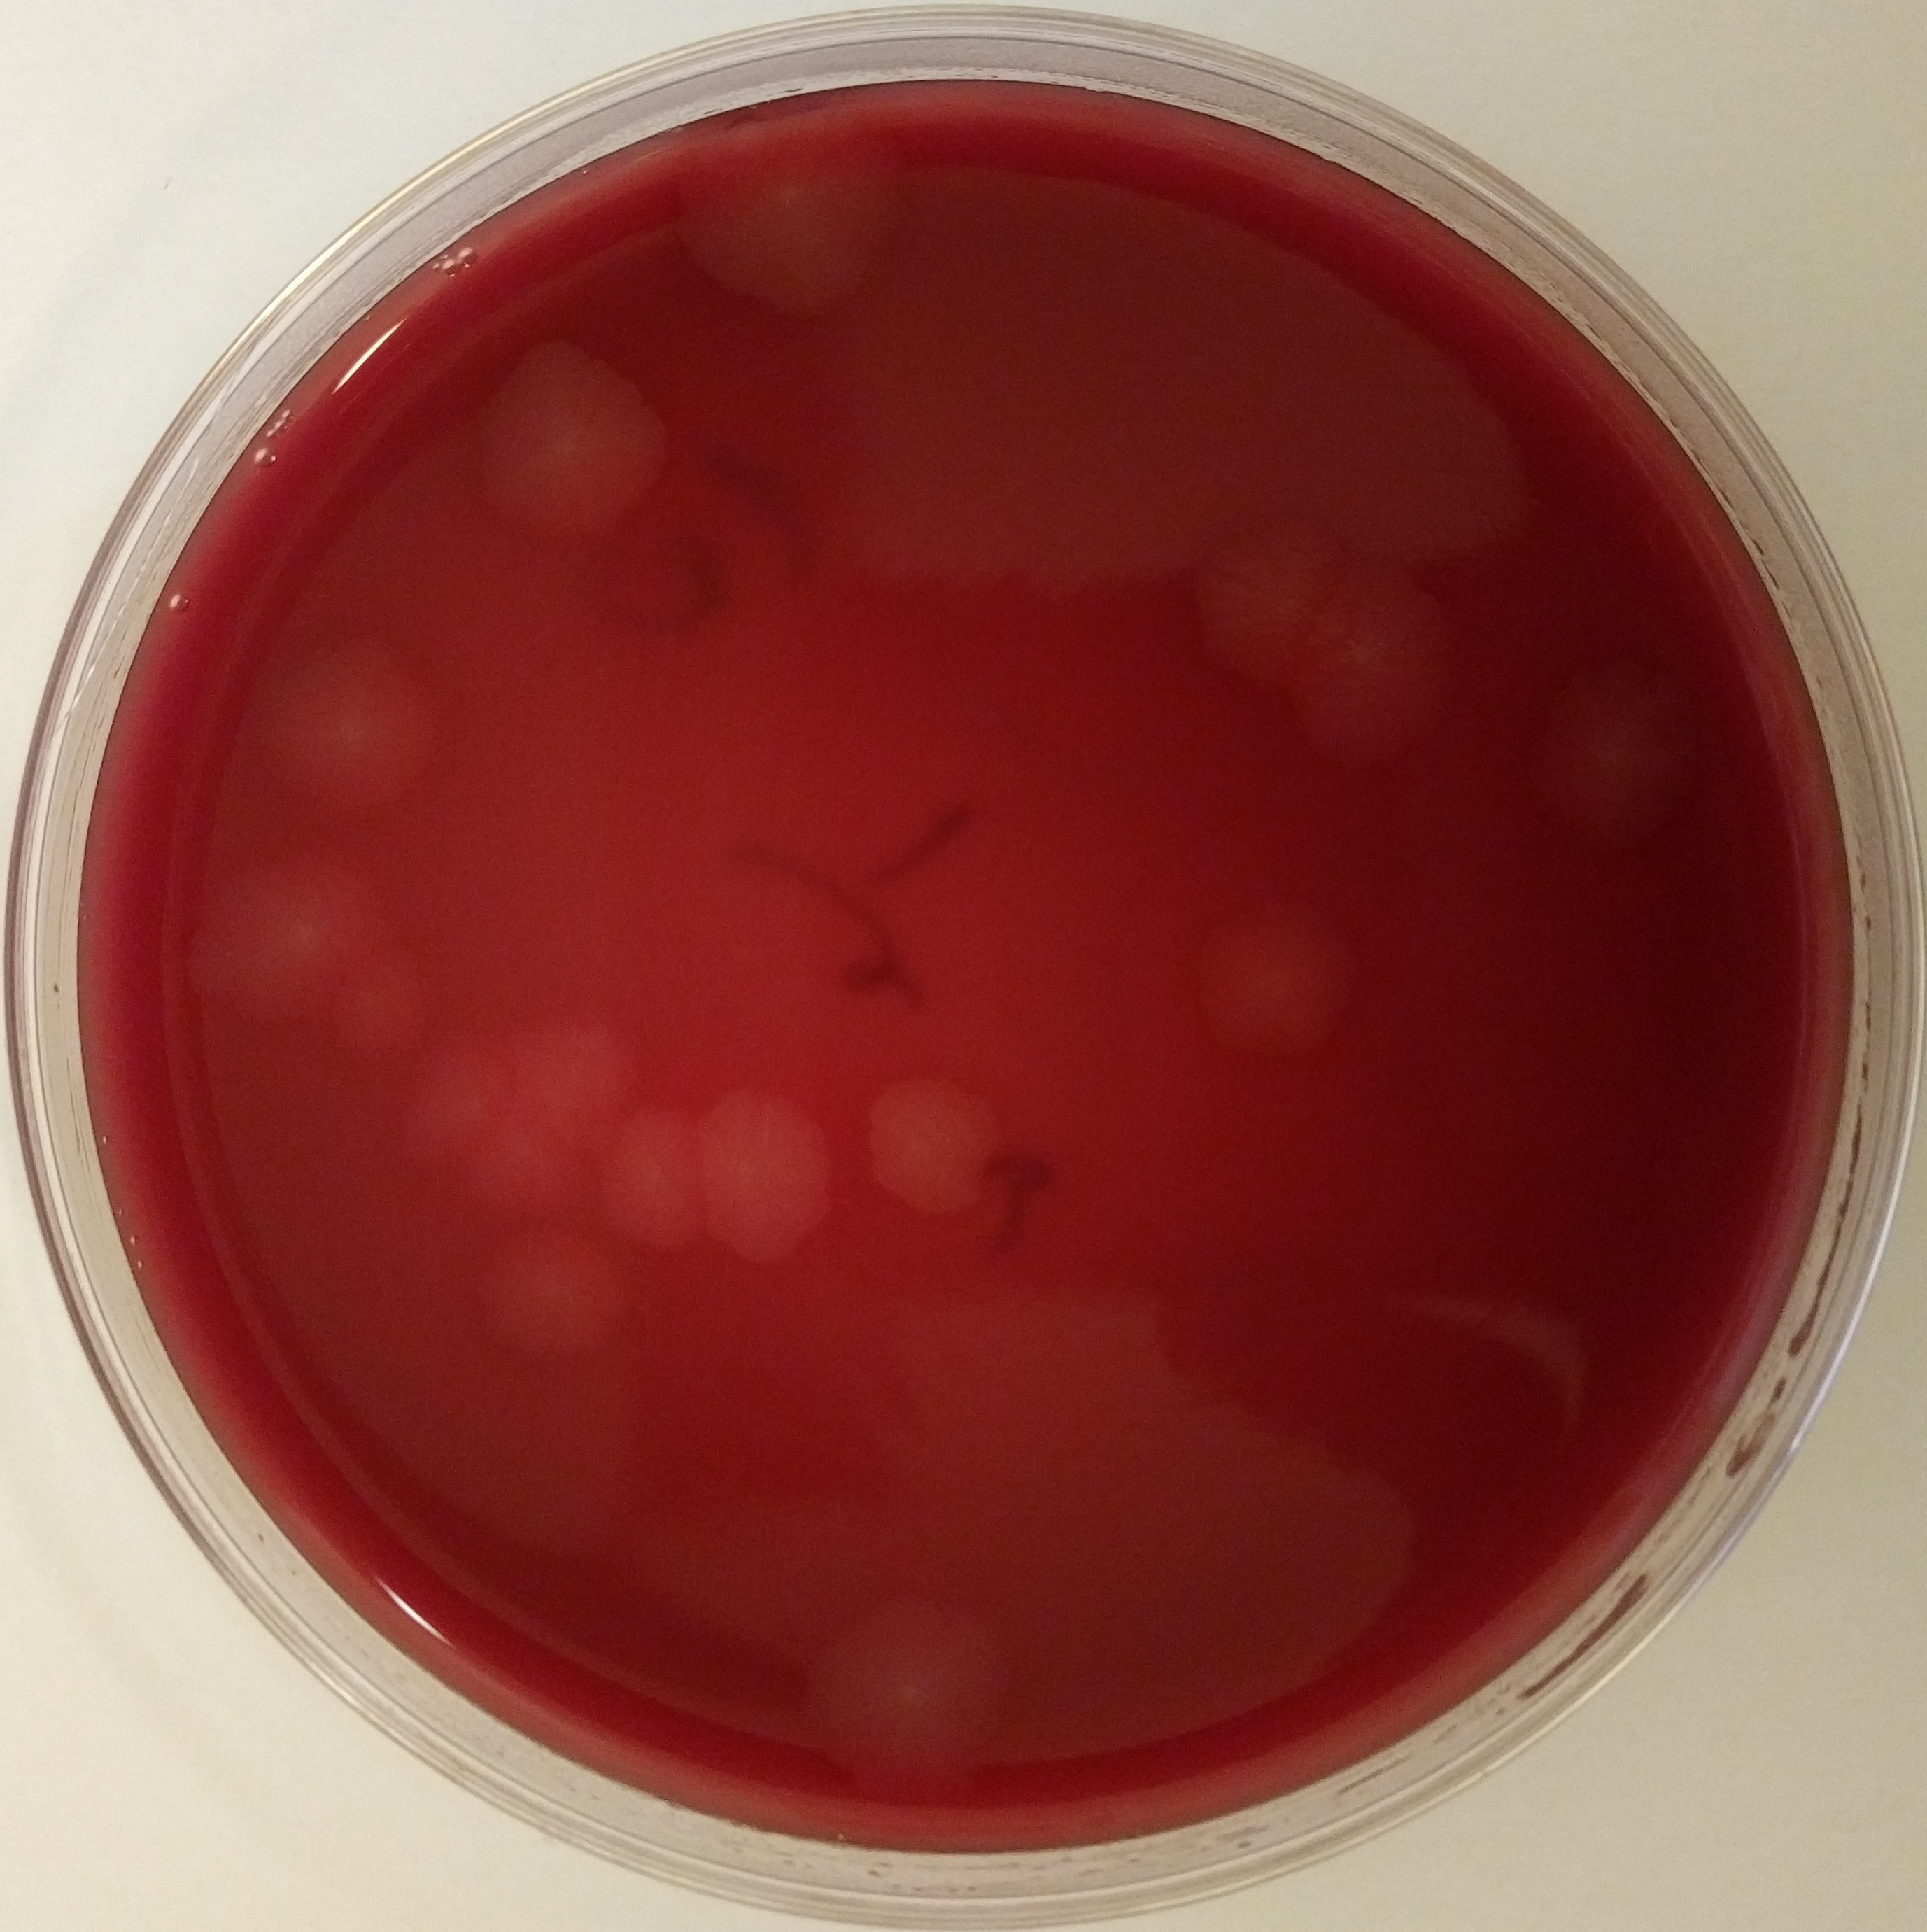sp08: (660, 90, 941, 344), (794, 1576, 1029, 1819), (457, 318, 679, 558), (217, 619, 452, 826), (1516, 635, 1729, 857), (171, 840, 427, 1025), (1191, 482, 1361, 725), (1186, 879, 1380, 1082), (1278, 547, 1436, 776), (690, 1062, 847, 1283), (457, 1200, 651, 1378), (852, 1039, 1025, 1237), (581, 1080, 743, 1253), (496, 976, 648, 1149), (454, 1096, 604, 1242), (381, 1015, 499, 1173), (325, 947, 446, 1076)
